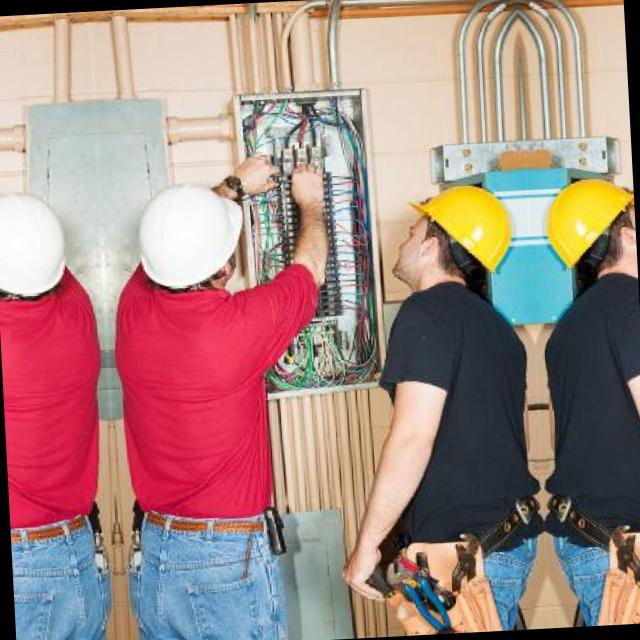helmet: (108, 158, 272, 347), (0, 167, 98, 355), (399, 172, 529, 308), (528, 166, 636, 302)
